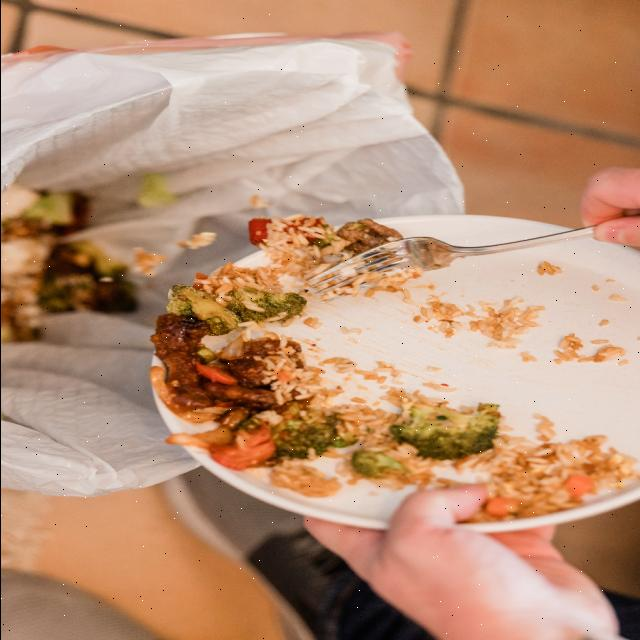Bones: (151, 315, 279, 408)
Green veg: (170, 285, 306, 335), (391, 404, 500, 460), (272, 402, 357, 458), (351, 450, 401, 478)
Rice: (453, 435, 637, 522), (332, 400, 452, 489), (250, 215, 400, 280), (259, 333, 342, 419), (271, 459, 341, 497)
